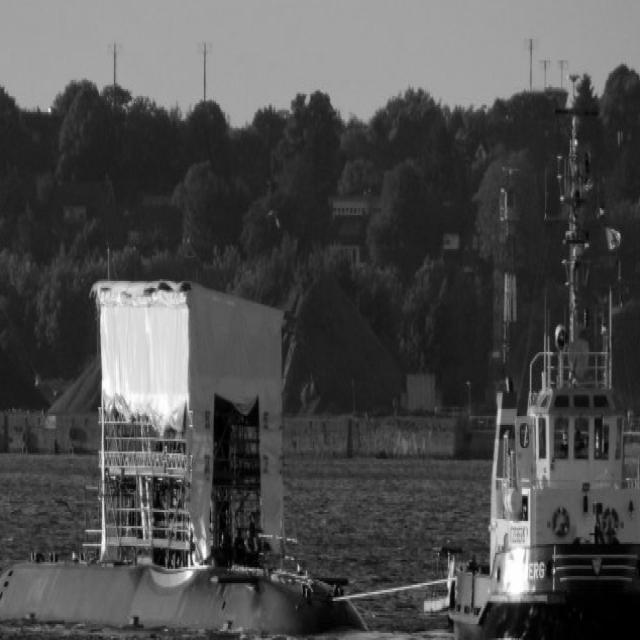submarine: (1, 269, 375, 640)
